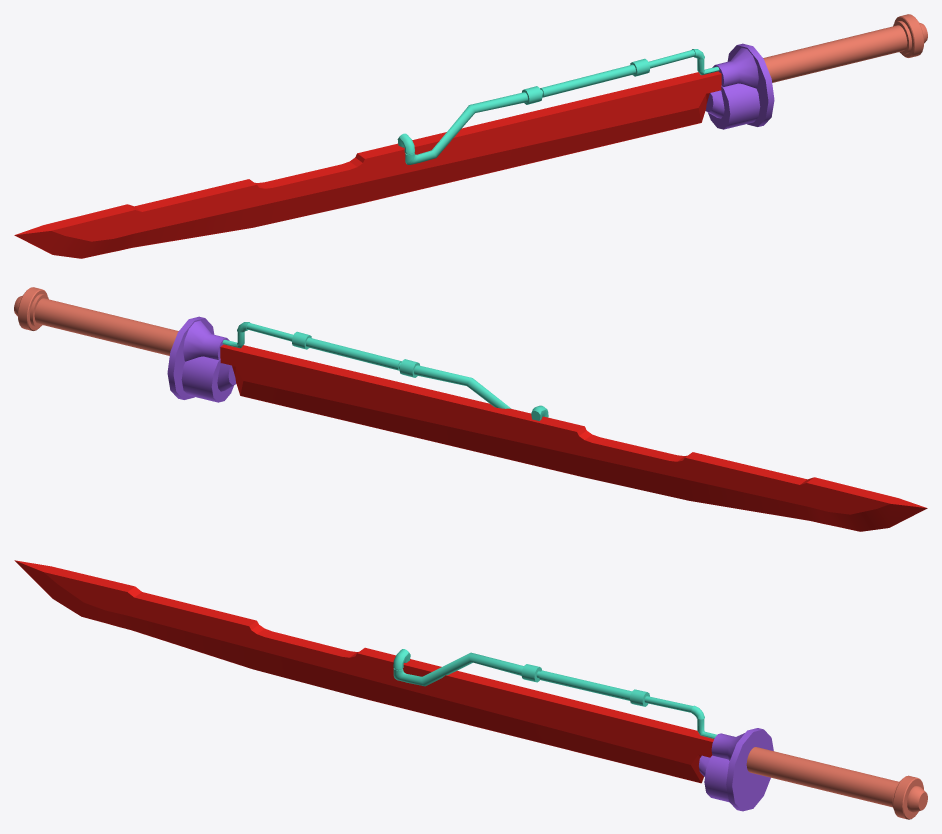
The picture shows the model from 3 angles, top to bottom: view 1: azimuth 30°, elevation 25°; view 2: azimuth 150°, elevation 25°; view 3: azimuth 330°, elevation 25°; orthographic projection.
Visible parts, largest first — view 1: Cube.002, Cube.003, Cube, Cube.004; view 2: Cube.002, Cube.003, Cube, Cube.004; view 3: Cube.002, Cube.003, Cube, Cube.004.
Part boxes in pixels (x1,y1,x2,y2): Cube.002: (14,71,721,258); Cube.003: (763,14,927,82); Cube: (705,43,774,129); Cube.004: (397,49,719,164); Cube.002: (220,344,927,531); Cube.003: (14,287,178,355); Cube: (167,316,236,402); Cube.004: (222,322,548,420); Cube.002: (14,560,713,783); Cube.003: (746,747,927,819); Cube: (699,728,773,811); Cube.004: (393,649,716,738).
Bounding box in the file's own units: 421 × 39.68 × 33.98.
